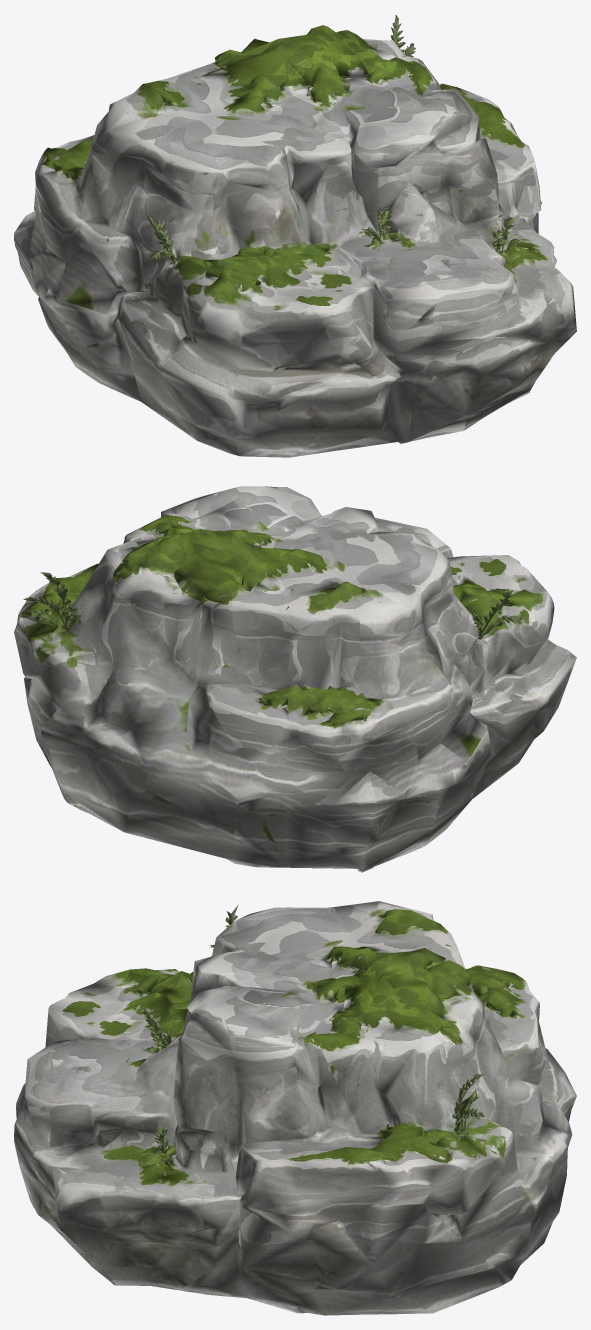
The model's file is pedra1.glb.
3 views of the same model, one above another, from view 1: azimuth 30°, elevation 25°; view 2: azimuth 150°, elevation 25°; view 3: azimuth 270°, elevation 25° (orthographic). The views are drawn at different scales.
Visible parts, largest first — view 1: pedra1; view 2: pedra1; view 3: pedra1.
Part boxes in pixels (x1,y1,x2,y2): pedra1: [14, 15, 576, 457]; pedra1: [14, 486, 576, 872]; pedra1: [14, 901, 576, 1315].
Size of the model in its own units: 1.78 by 1.03 by 1.9.
Materials: 1 (1 with a texture image).
